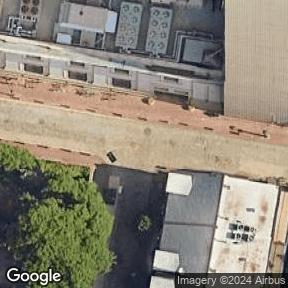vegetation: (0, 144, 113, 288)
